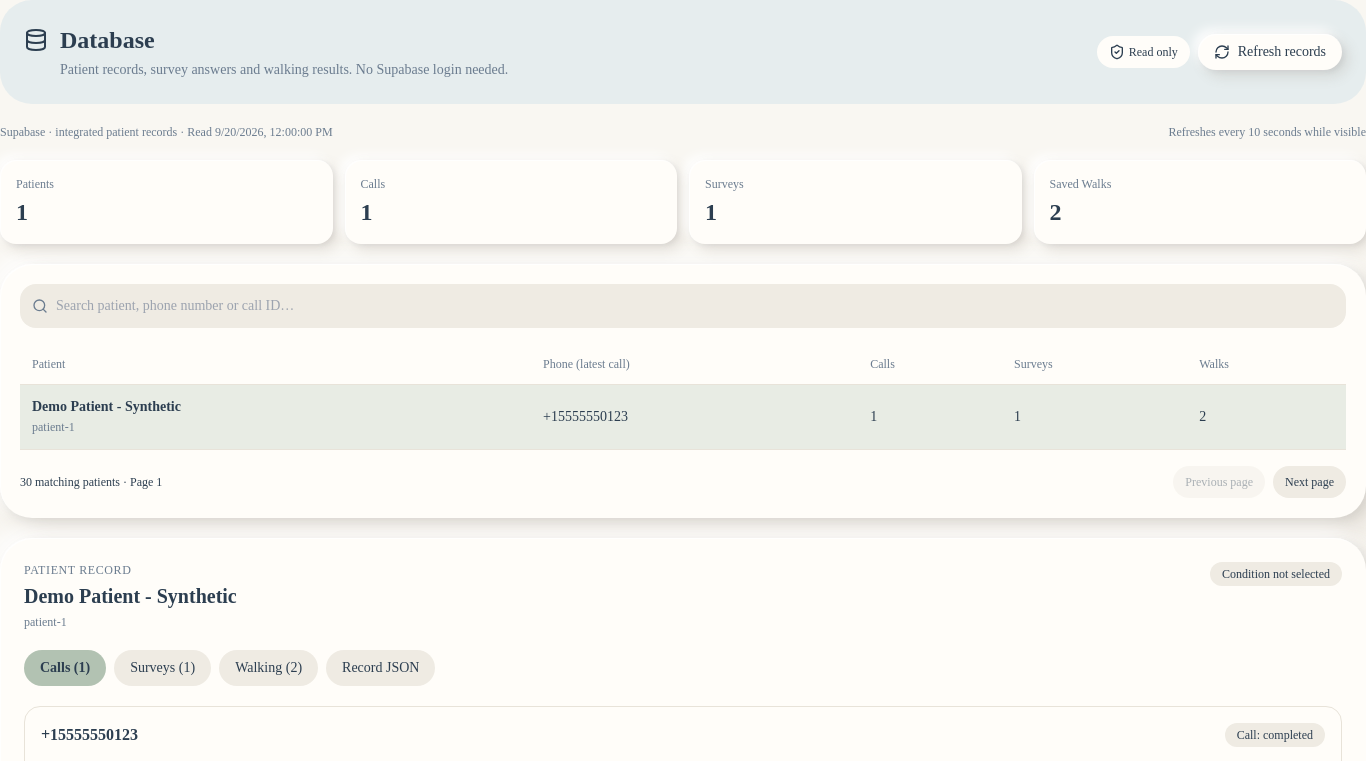
it: clinician database › searches and paginates without conflating no matches with failures
Expected: the heading "Demo Patient - Synthetic" is shown, [24, 582, 237, 610]
Click the button "Next page" at (1310, 482), box [1273, 466, 1346, 498]
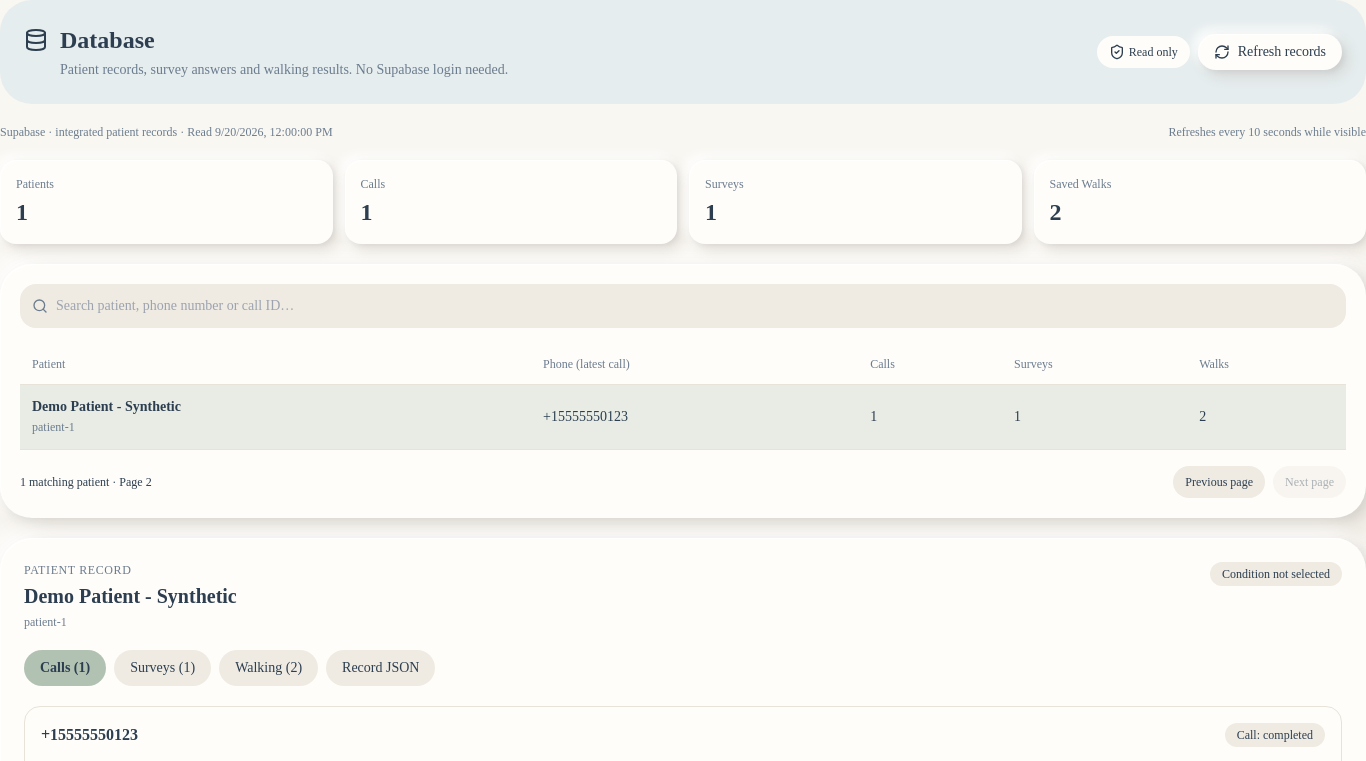
Type "missing" into the field named "Search database" at (695, 306), box [56, 292, 1334, 320]
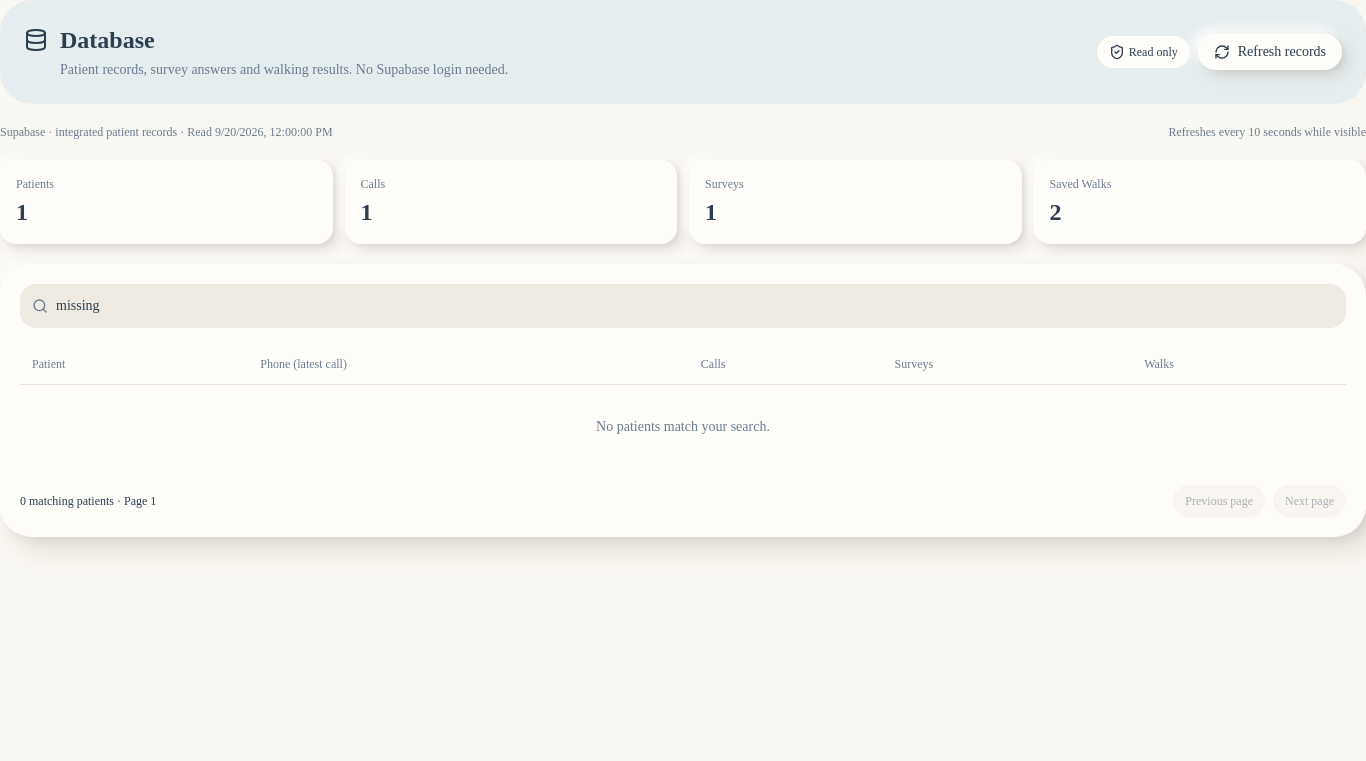
Result: the text "No patients match your search." is shown at [596, 419, 770, 434]
